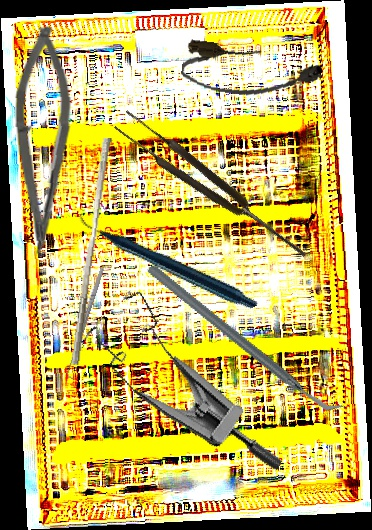Cannula: (179, 38, 324, 106)
Chopper: (145, 216, 346, 462)
Handpiece: (76, 159, 260, 361)
Hook Surgical: (63, 267, 109, 380)
Micro Scissor: (11, 24, 78, 257)
Pusher: (71, 136, 112, 367)
Speculum: (65, 278, 322, 474)
Tissue Forceps: (112, 107, 313, 268)
